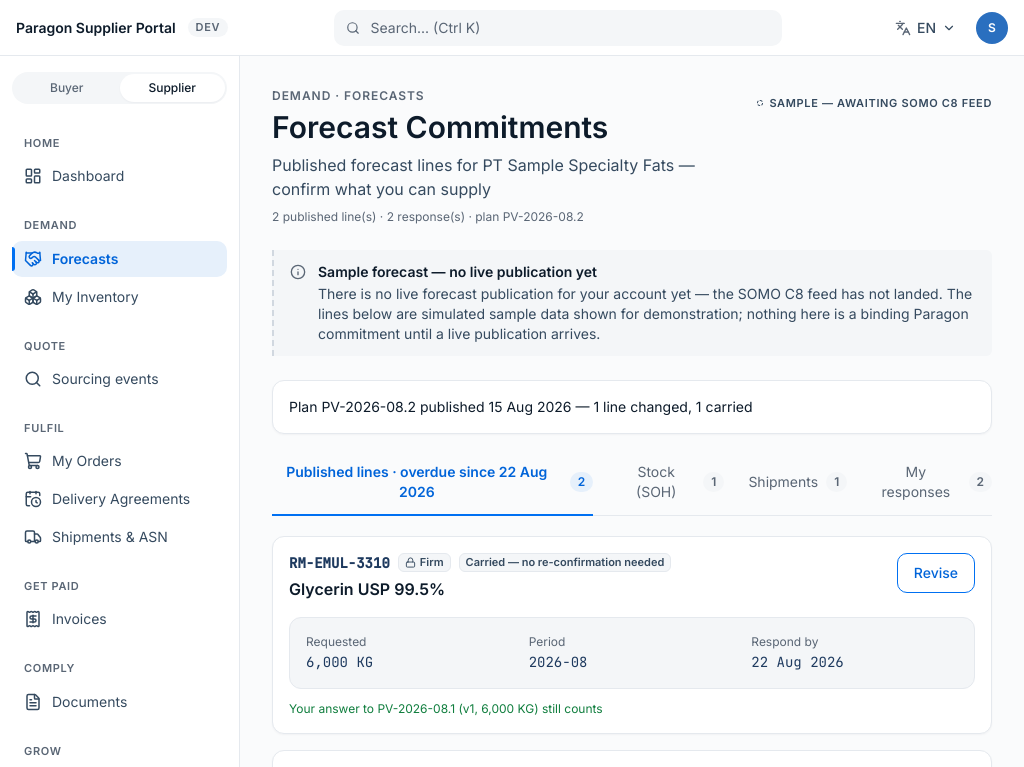
Test: A3 · the supplier revises an ACCEPTED answer (Probe B, on the surface) › Accepted reads "nothing needed" — an option to revise is not a turn
The width and height of the screenshot is (1024, 767).
Click the text "My responses" at (916, 481), box x1=882 y1=463 x2=950 y2=500
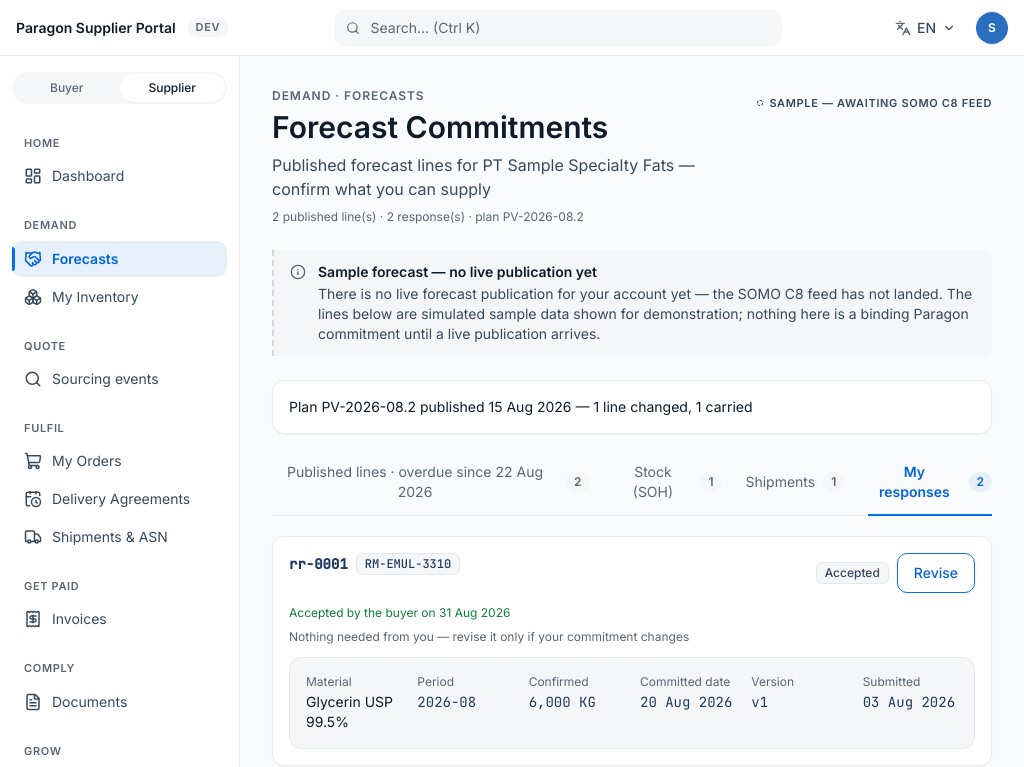
Expected: the text with test id "sdcsup-response-actor" reads "Nothing needed from you — revise it only if your commitment changes", x1=289 y1=629 x2=689 y2=644
